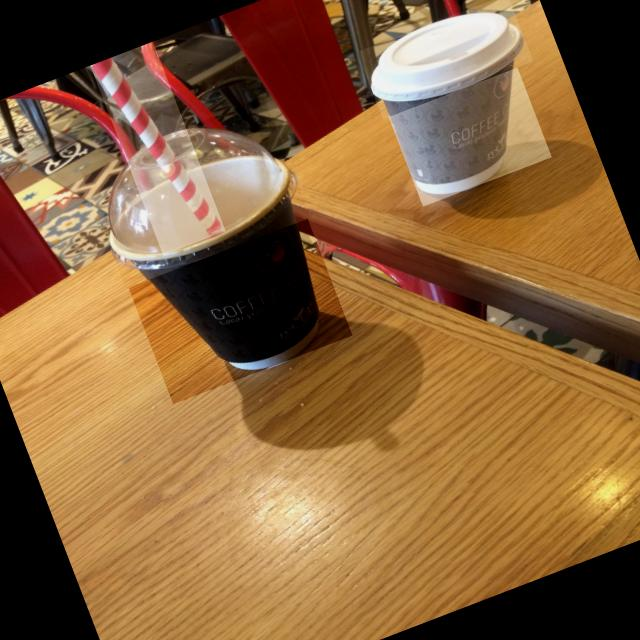Cup: (111, 155, 320, 370), (385, 59, 515, 193)
Lid: (110, 127, 298, 268), (372, 12, 525, 101)
Straw: (91, 58, 225, 236)
